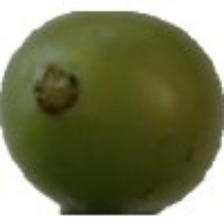grapes: (38, 31, 216, 224)
